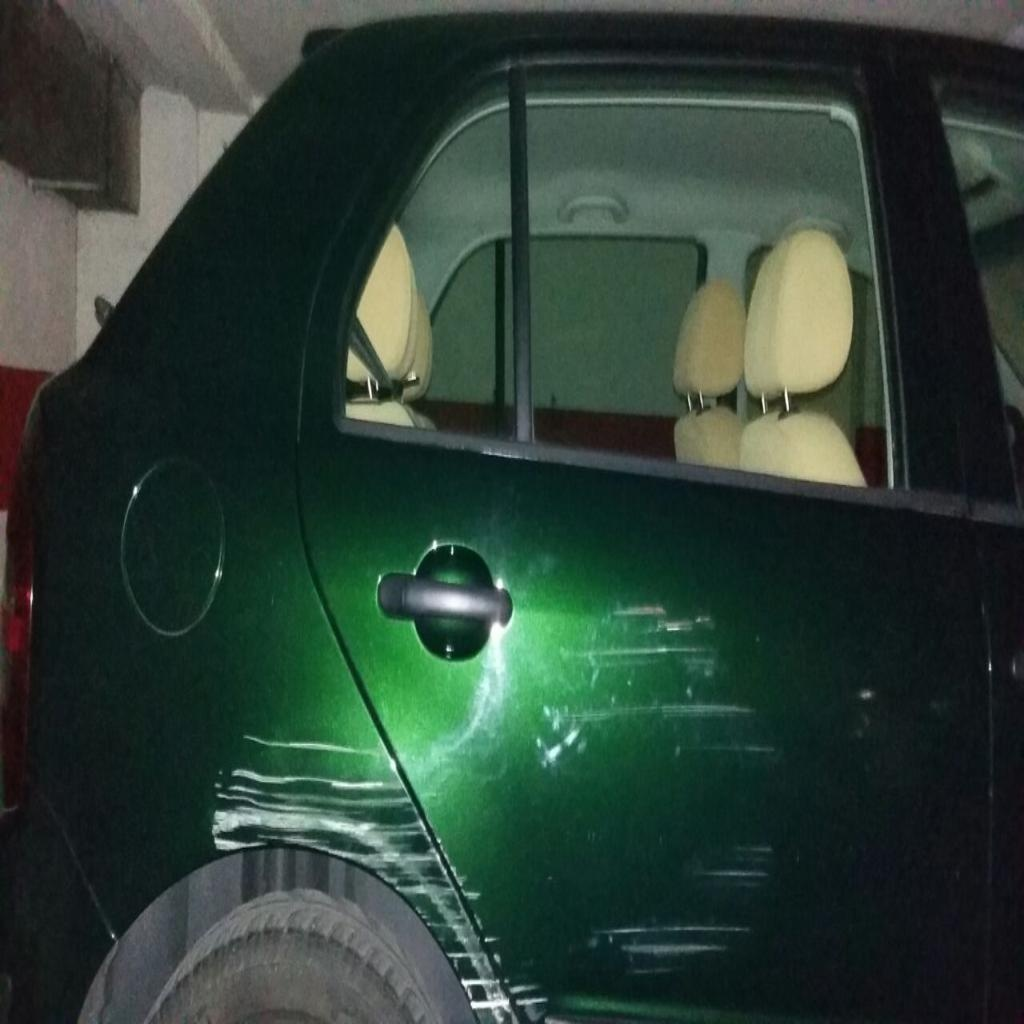Scratch: (536, 602, 784, 774), (209, 729, 419, 851), (396, 862, 540, 1018), (590, 918, 748, 985), (705, 839, 775, 881)
